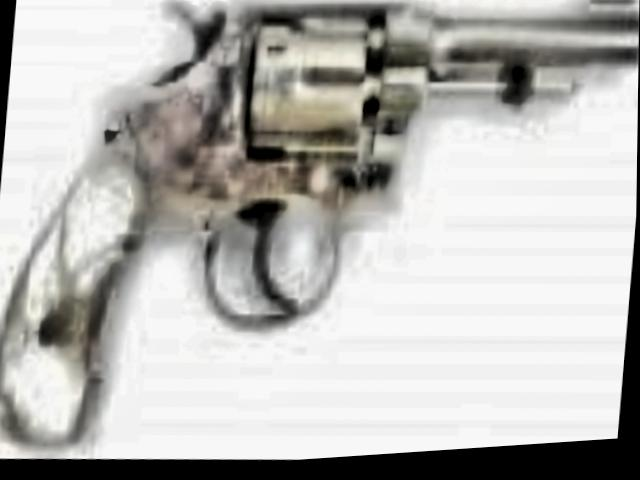pistol: (0, 0, 640, 469)
